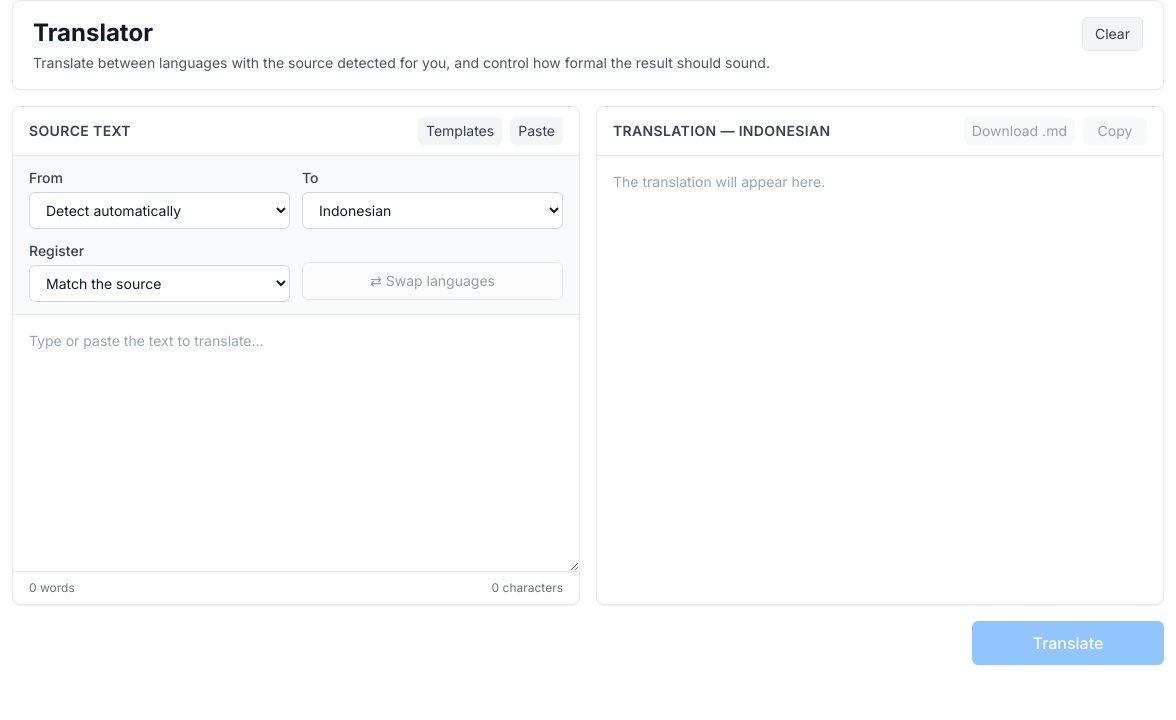
Test: current context from every text page › Translator sends its current controls and source to its own endpoint
Type "Where is the station?" into the text box with placeholder "Type or paste the text to translate...". click: point(296, 443)
box: x1=13 y1=315 x2=579 y2=571
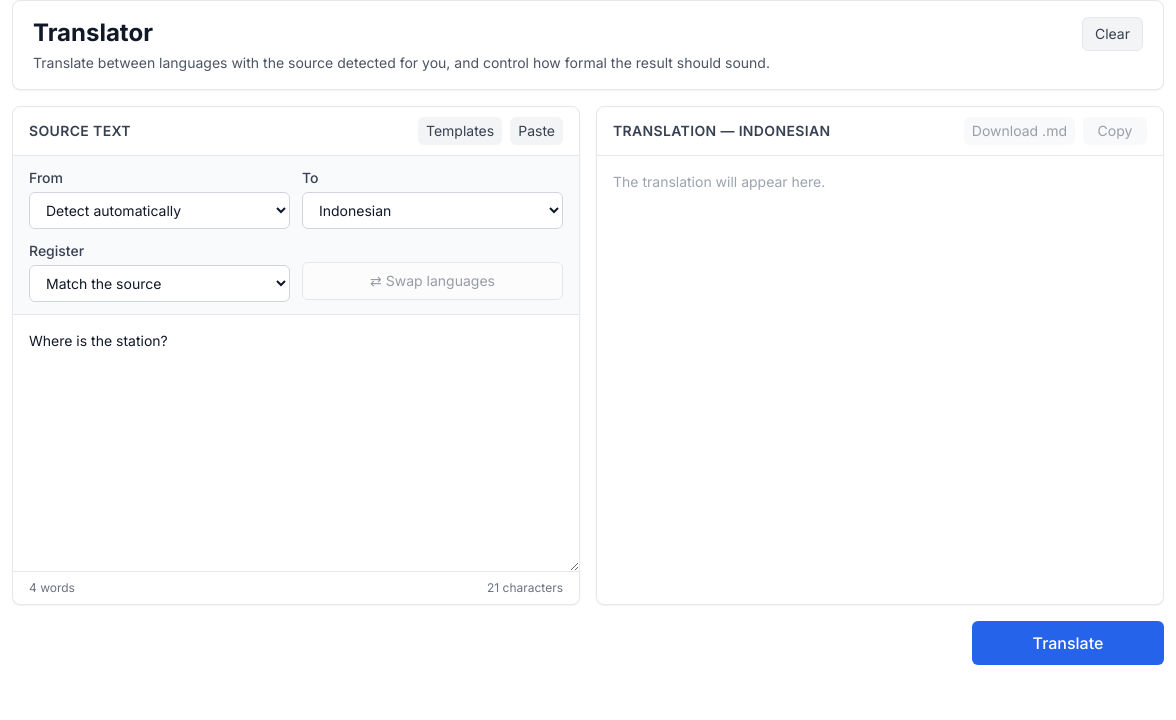
Select "English" in the dropdown with id "translate-source". click: point(160, 210)
box: x1=29 y1=192 x2=290 y2=229
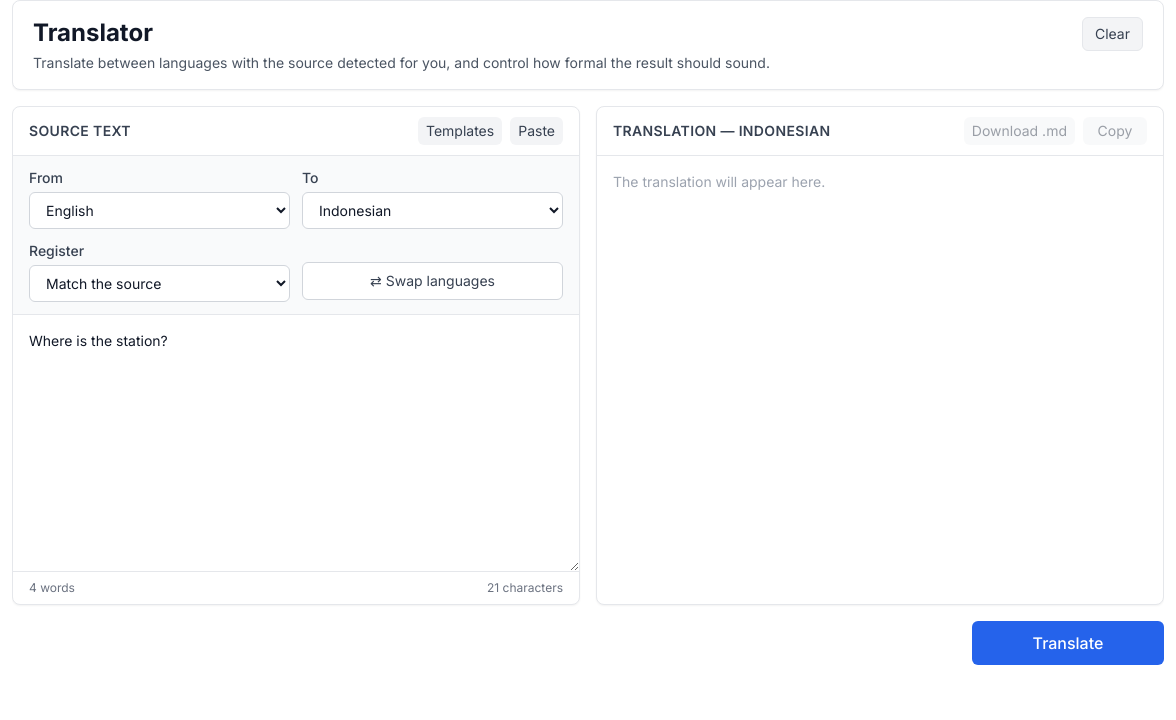
Select "French" in the dropdown with id "translate-target". click: point(432, 210)
box: x1=302 y1=192 x2=563 y2=229
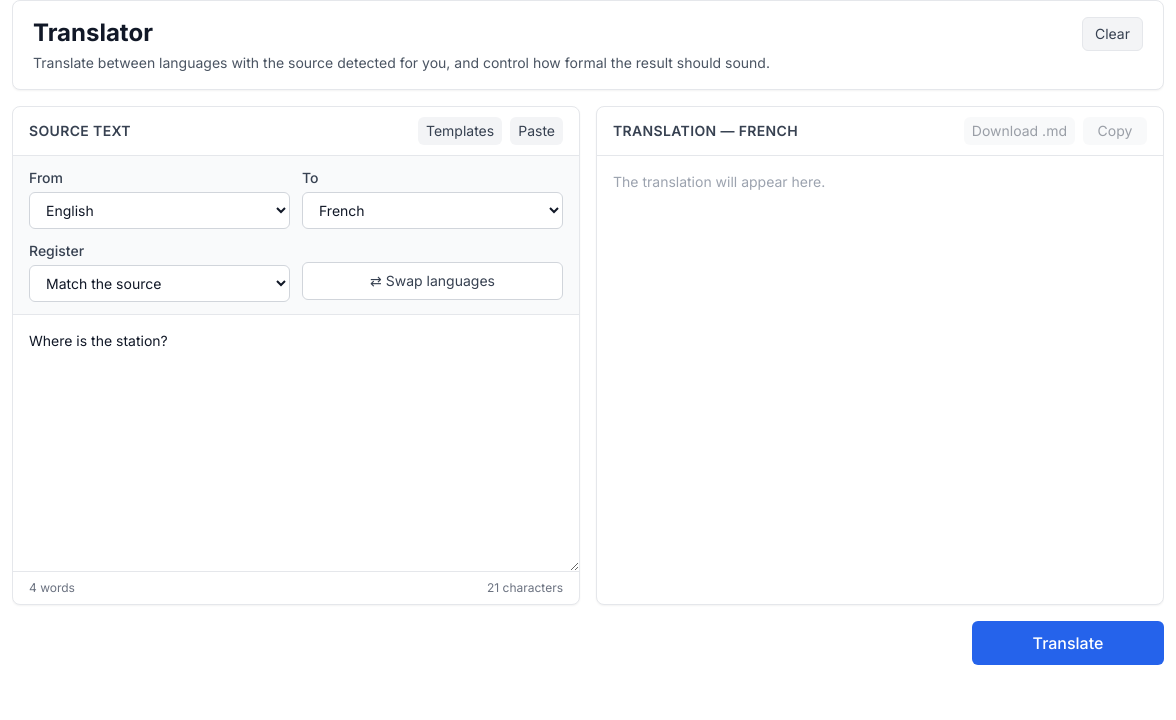
Select "Formal" in the dropdown with id "translate-register". click: point(160, 284)
box: x1=29 y1=265 x2=290 y2=302
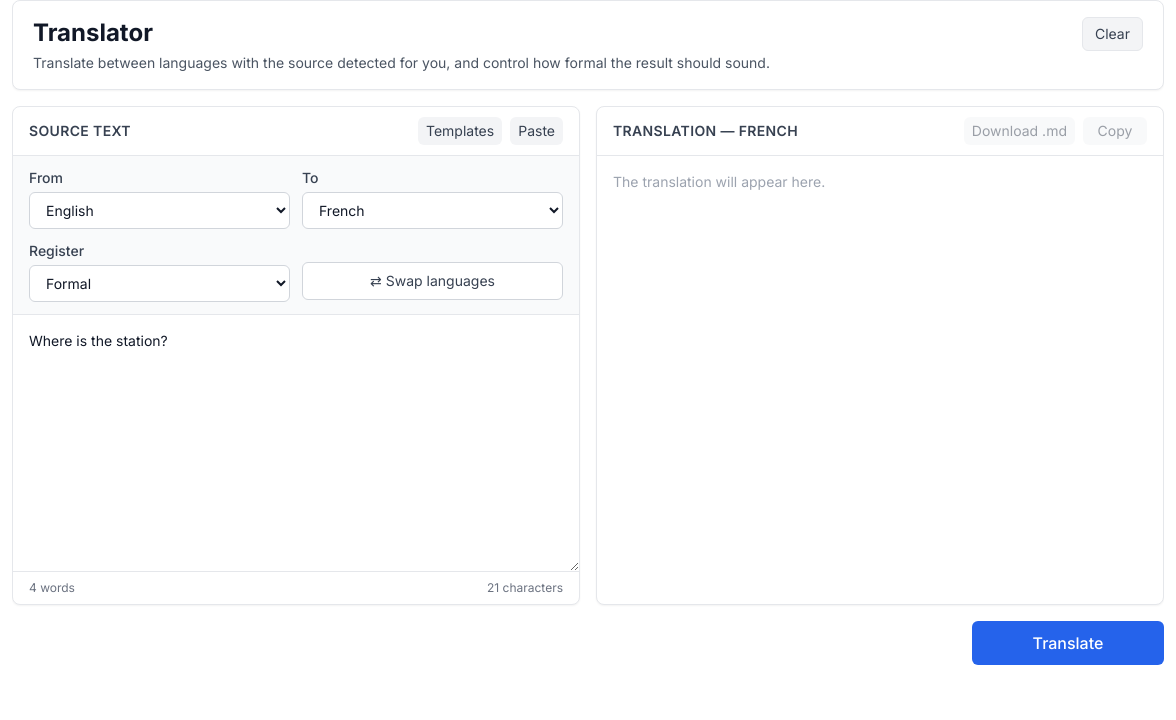
Click the button "Translate". click: point(1068, 643)
box: x1=972 y1=621 x2=1164 y2=665
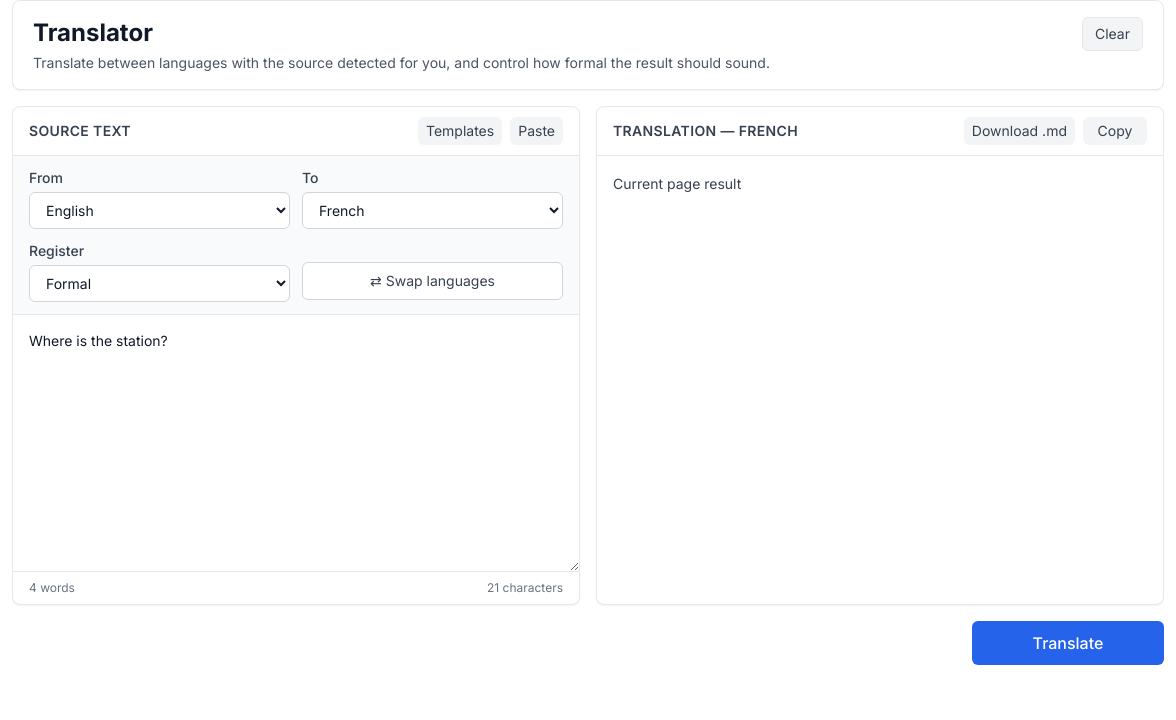
Result: the text "Current page result" is shown at x1=613 y1=175 x2=741 y2=192
